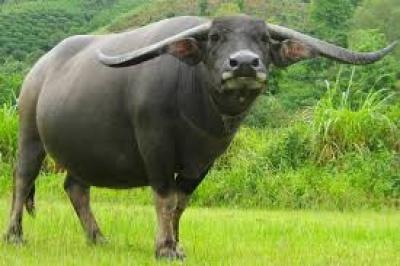buffalo: (5, 16, 394, 258)
